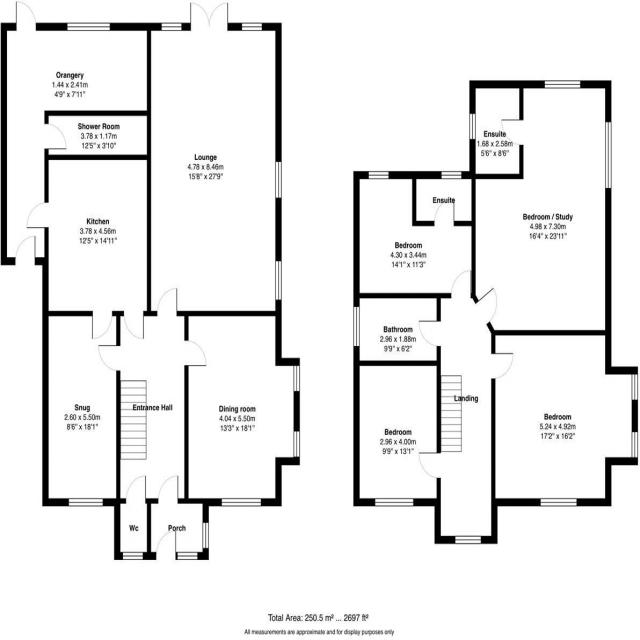DOOR: (472, 284, 500, 328), (154, 526, 179, 565), (42, 121, 70, 155), (415, 450, 444, 482), (154, 285, 180, 320), (24, 198, 51, 231), (183, 337, 210, 370), (499, 116, 526, 148), (121, 309, 146, 343), (123, 472, 148, 506), (157, 473, 182, 507), (416, 318, 442, 350), (13, 234, 37, 268), (90, 308, 114, 342), (449, 267, 473, 301), (489, 351, 515, 382), (96, 343, 121, 375), (14, 0, 38, 33), (433, 196, 456, 229)
DOUBLE DOOR: (187, 0, 230, 31)
ROOM: (145, 0, 284, 319), (470, 79, 613, 336), (490, 329, 639, 507), (24, 153, 152, 343), (182, 307, 302, 508), (352, 169, 477, 301), (41, 309, 122, 509), (352, 359, 442, 507)
WINDOW: (603, 120, 613, 191), (373, 496, 416, 510), (219, 496, 262, 509), (543, 78, 582, 92), (66, 21, 111, 33), (67, 495, 105, 509), (273, 258, 284, 303), (539, 496, 578, 508), (273, 159, 284, 201), (352, 305, 362, 349), (453, 534, 483, 546), (291, 363, 302, 395), (120, 550, 145, 563), (176, 548, 199, 562), (240, 21, 264, 34), (201, 520, 211, 551), (159, 21, 184, 33), (292, 430, 302, 459), (467, 112, 477, 141), (367, 169, 390, 181), (440, 169, 463, 181), (630, 430, 639, 460), (630, 373, 639, 402)
